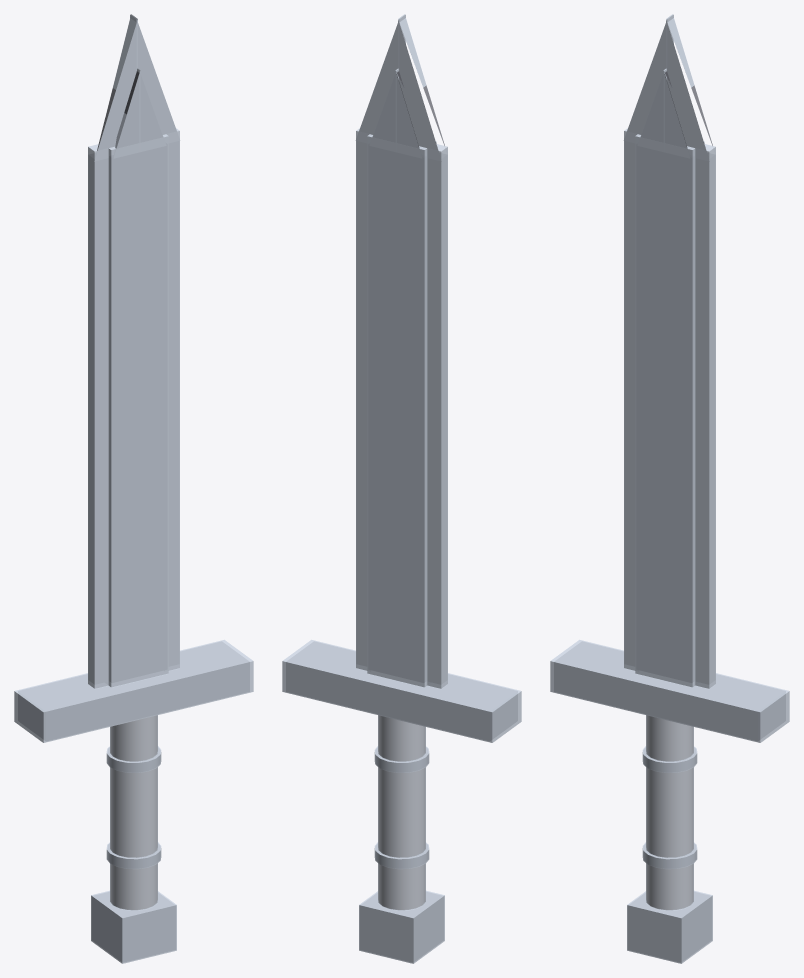
3 renders of one model, left to right at view 1: azimuth 30°, elevation 25°; view 2: azimuth 150°, elevation 25°; view 3: azimuth 330°, elevation 25°, orthographic.
Visible parts, largest first — view 1: weapon-apex; view 2: weapon-apex; view 3: weapon-apex.
Part boxes in pixels (<box>): weapon-apex: <box>14,14,253,963</box>; weapon-apex: <box>282,14,521,963</box>; weapon-apex: <box>550,14,789,963</box>.
Bounding box in the file's own units: 0.2024 × 0.8551 × 0.0526.
